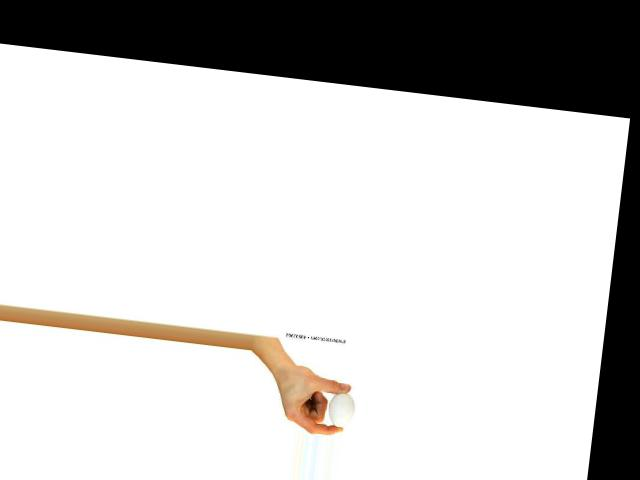egg: (326, 390, 355, 428)
